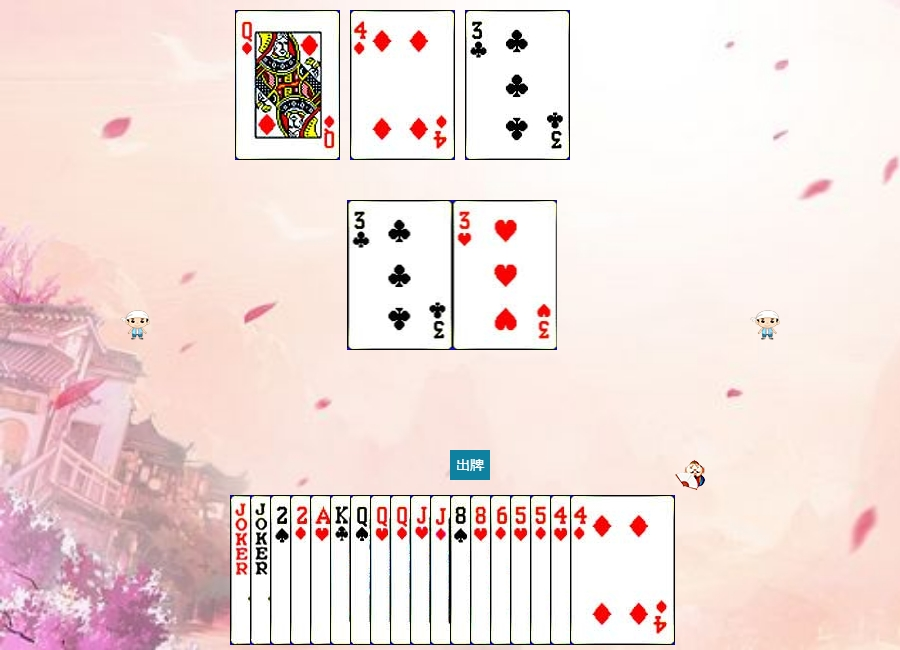11~1: (430, 495, 535, 645)
11~3: (410, 495, 515, 645)
12~1: (235, 10, 340, 160), (390, 495, 495, 645)
12~3: (370, 495, 475, 645)
12~4: (350, 495, 455, 645)
13~2: (330, 495, 435, 645)
14~3: (310, 495, 415, 645)
15~1: (290, 495, 395, 645)
15~4: (270, 495, 375, 645)
17~3: (250, 495, 355, 645)
18~4: (230, 495, 335, 645)
3~2: (465, 10, 570, 160), (348, 200, 453, 350)
3~3: (453, 200, 558, 350)
4~1: (350, 10, 455, 160), (570, 495, 675, 645)
4~3: (550, 495, 655, 645)
5~1: (530, 495, 635, 645)
5~3: (510, 495, 615, 645)
6~1: (490, 495, 595, 645)
8~3: (470, 495, 575, 645)
8~4: (450, 495, 555, 645)
